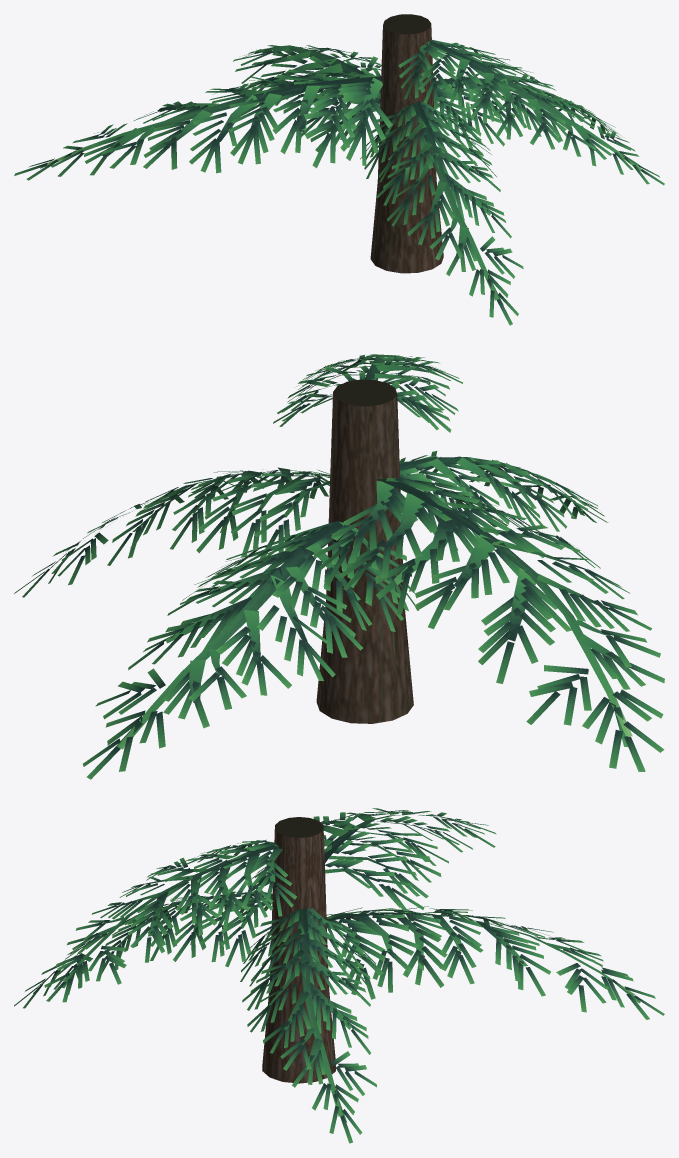
The model's file is ConiferTreeBase.fbx.
The picture shows the model from 3 angles, top to bottom: view 1: azimuth 30°, elevation 25°; view 2: azimuth 150°, elevation 25°; view 3: azimuth 270°, elevation 25°; orthographic projection. The views are drawn at different scales.
Visible parts, largest first — view 1: ConiferTreeBase; view 2: ConiferTreeBase; view 3: ConiferTreeBase.
Part boxes in pixels (x1,y1,x2,y2): ConiferTreeBase: (14, 14, 664, 325); ConiferTreeBase: (14, 354, 664, 779); ConiferTreeBase: (14, 808, 664, 1143).
Size of the model in its own units: 698 by 288 by 707.
Materials: 1 (1 with a texture image).
